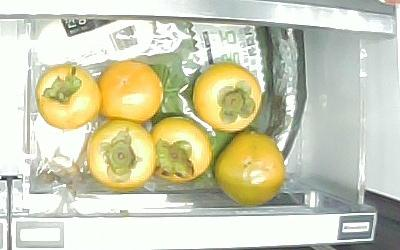persimmon: (213, 133, 287, 206), (191, 62, 263, 134), (89, 123, 156, 192), (35, 65, 102, 130), (150, 117, 211, 183), (100, 61, 163, 121)
